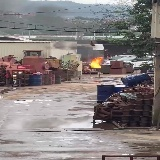fire: (90, 56, 103, 68)
